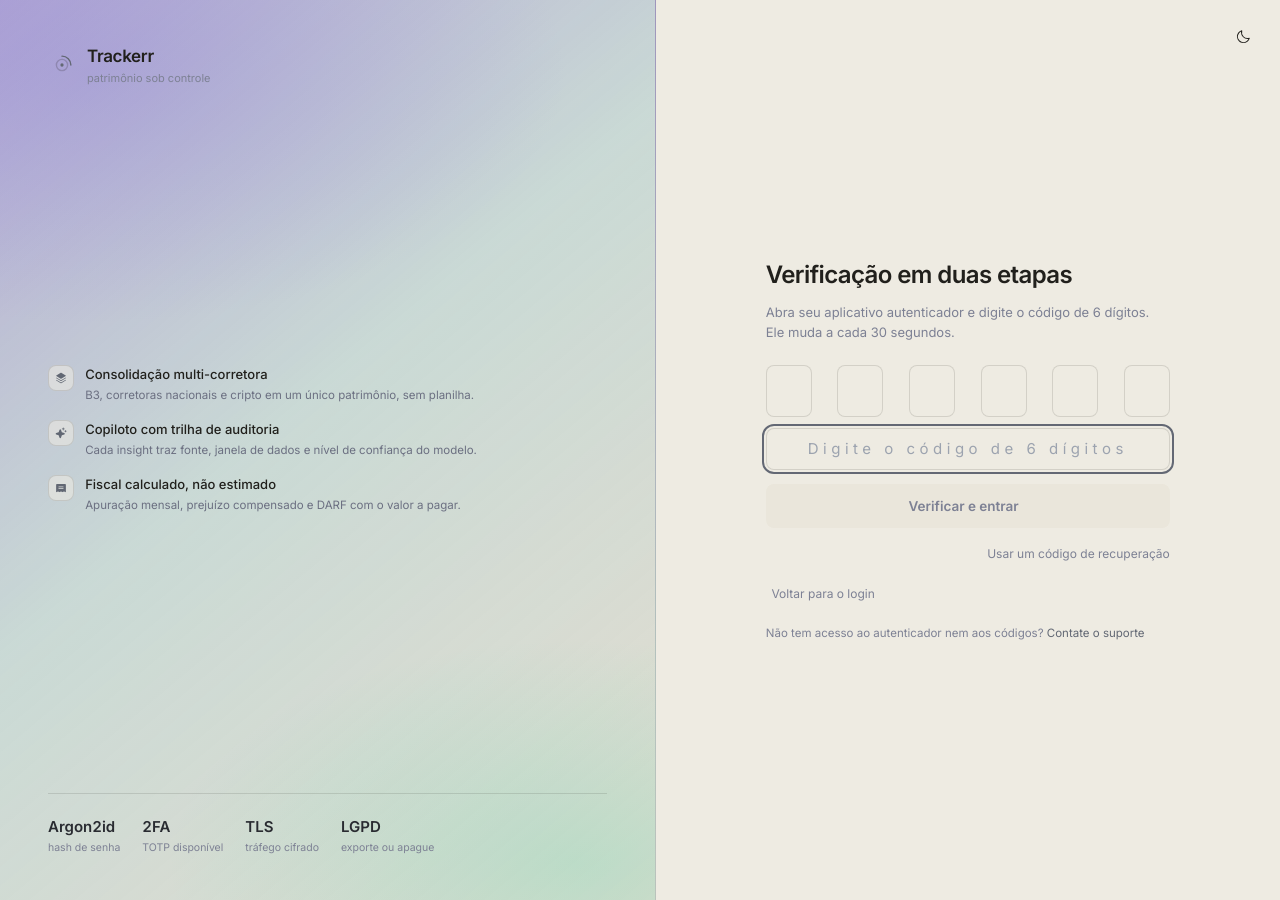
Test: TwoFactorVerify › troca o campo para o código de recuperação e permite voltar
The width and height of the screenshot is (1280, 900).
Click the button "Usar um código de recuperação": (1078, 554) 987,544 -> 1170,562
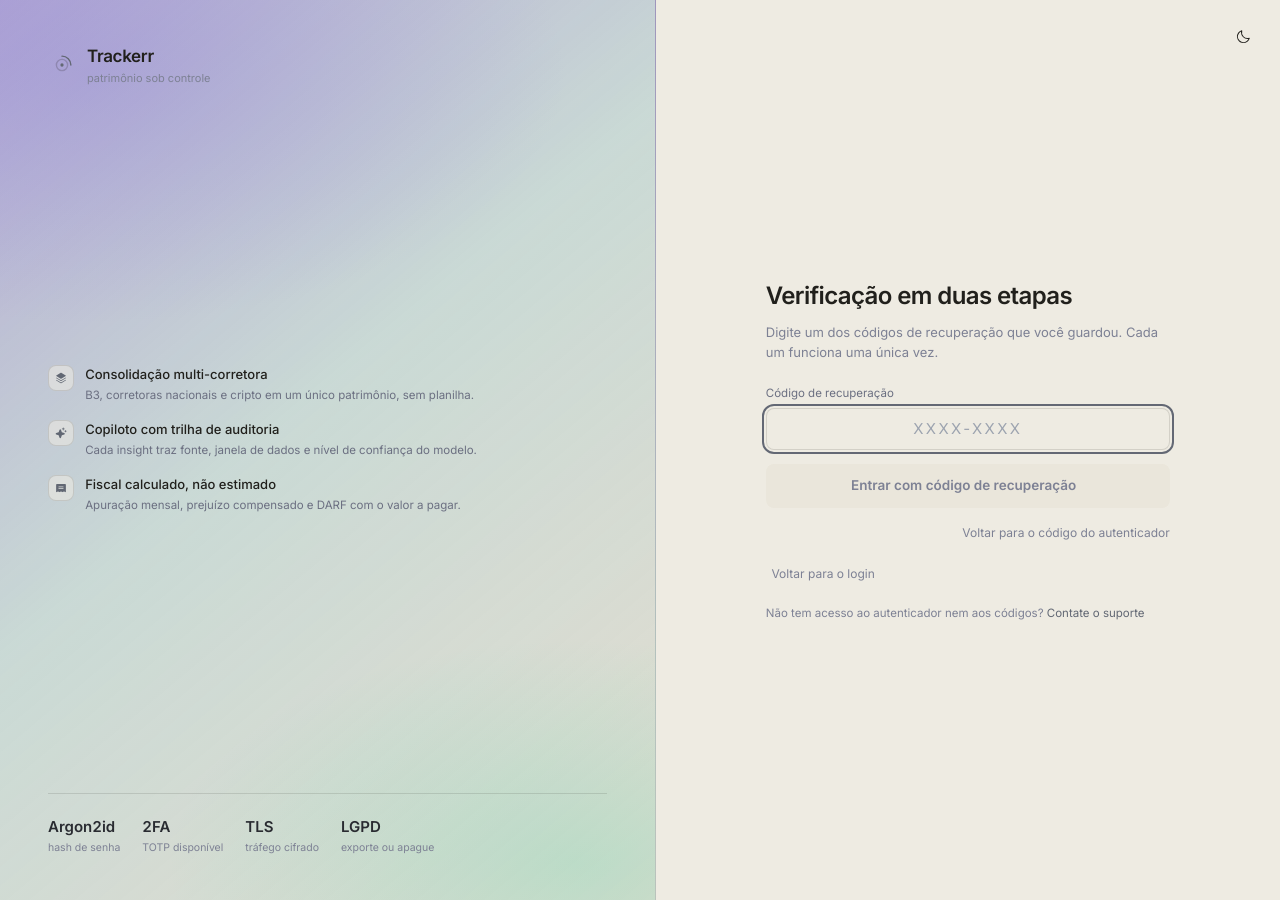
Now the field labelled "Código de recuperação" is shown, box 766,408 -> 1170,450
Now the text labelled "código de 6 dígitos" is gone
Click the button "Voltar para o código do autenticador": (1066, 533) 962,524 -> 1170,542
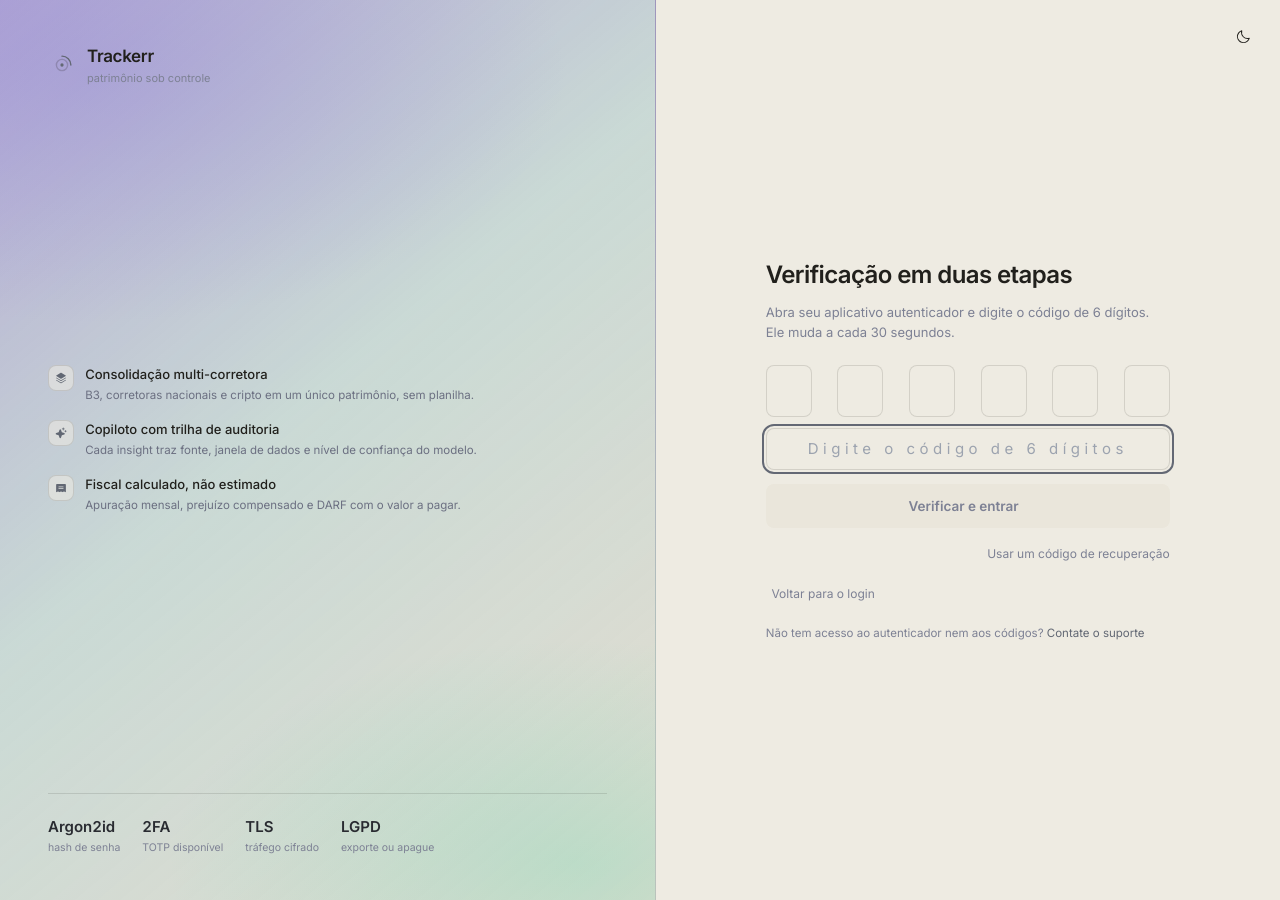
Now the field labelled "Digite o código de 6 dígitos" is shown, box 766,428 -> 1170,470
